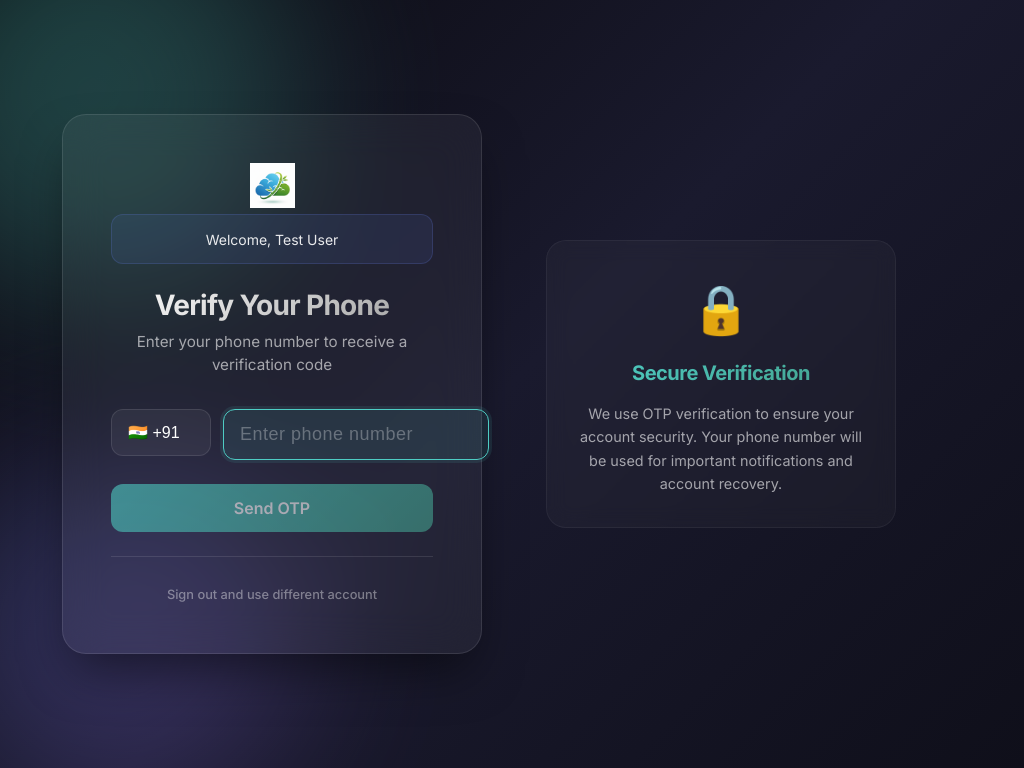
PhoneVerification Component Unit Tests › renders OTP input step after SMS sent
// Enter phone and send OTP
Type "9876543210" into the field with placeholder "Enter phone number".
click(356, 434); type("9876543210")  # box [223,409,489,460]
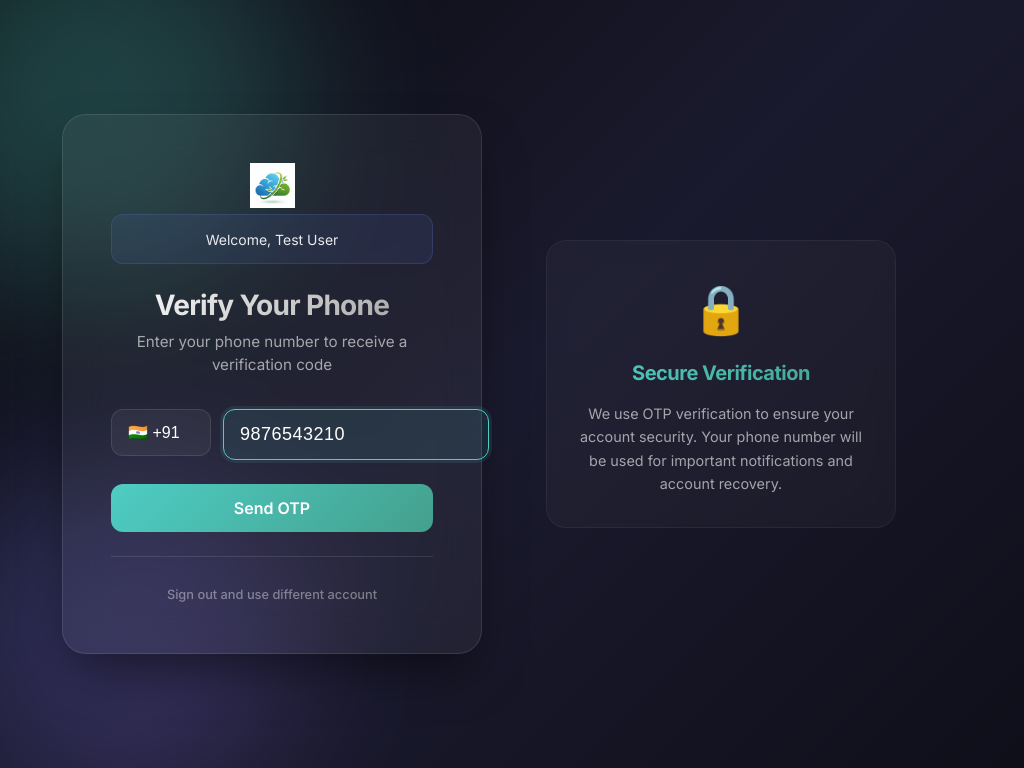
Click the button "Send OTP".
click(272, 508)  # box [111,484,433,532]
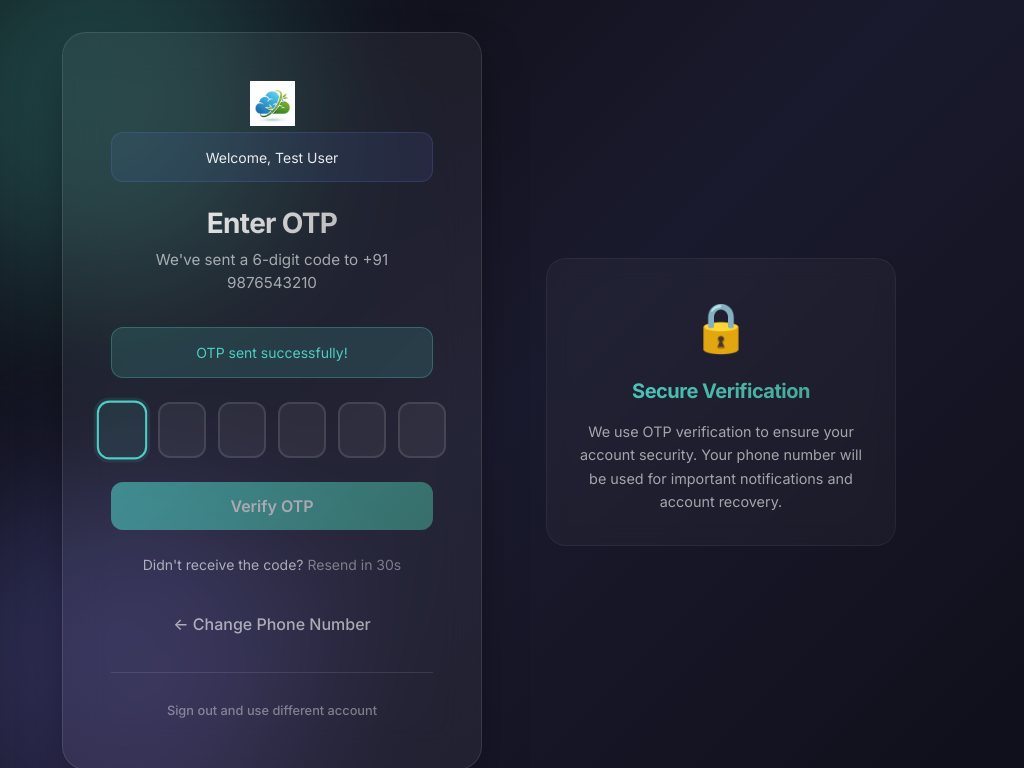
Check: the heading "Enter OTP" is shown, box [111,206,433,241]
